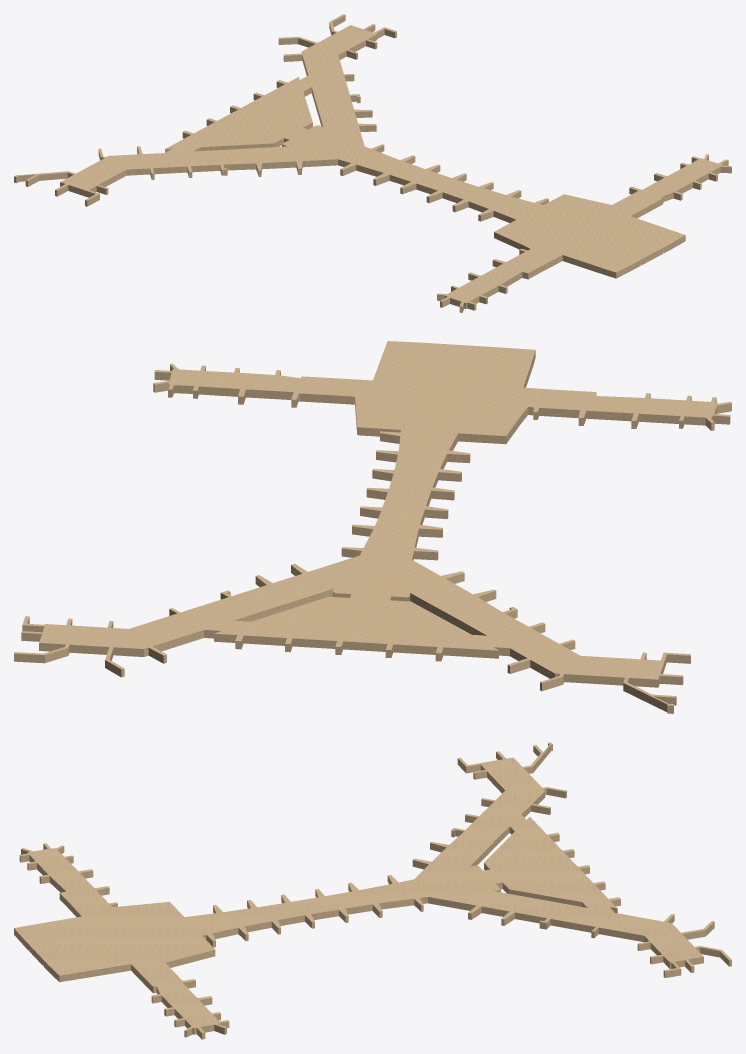
File: OTBD.gltf
3 views of the same model, one above another, from view 1: azimuth 30°, elevation 25°; view 2: azimuth 150°, elevation 25°; view 3: azimuth 270°, elevation 25° (orthographic). The views are drawn at different scales.
Visible parts, largest first — view 1: Building Concourse C, Building Main Terminal Building, Building Concourse D, Building Concourse E, Building Concourse A, Building Concourse B; view 2: Building Concourse C, Building Main Terminal Building, Building Concourse D, Building Concourse E, Building Concourse A, Building Concourse B; view 3: Building Concourse C, Building Main Terminal Building, Building Concourse E, Building Concourse D, Building Concourse B, Building Concourse A.
Part boxes in pixels (bbox=[...]): Building Concourse C: bbox=[165, 77, 548, 222]; Building Main Terminal Building: bbox=[494, 194, 685, 278]; Building Concourse D: bbox=[14, 146, 227, 206]; Building Concourse E: bbox=[278, 14, 396, 106]; Building Concourse A: bbox=[437, 248, 562, 312]; Building Concourse B: bbox=[612, 154, 731, 218]; Building Concourse C: bbox=[214, 430, 499, 661]; Building Main Terminal Building: bbox=[355, 341, 535, 444]; Building Concourse D: bbox=[463, 607, 690, 713]; Building Concourse E: bbox=[14, 590, 270, 677]; Building Concourse A: bbox=[520, 387, 731, 430]; Building Concourse B: bbox=[153, 363, 372, 407]; Building Concourse C: bbox=[185, 817, 620, 947]; Building Main Terminal Building: bbox=[14, 901, 215, 982]; Building Concourse E: bbox=[538, 902, 731, 977]; Building Concourse D: bbox=[451, 742, 566, 844]; Building Concourse B: bbox=[131, 961, 229, 1039]; Building Concourse A: bbox=[19, 843, 117, 917].
Size of the model in its own units: 143 by 1.5 by 149.
Materials: 1 (1 with a texture image).
